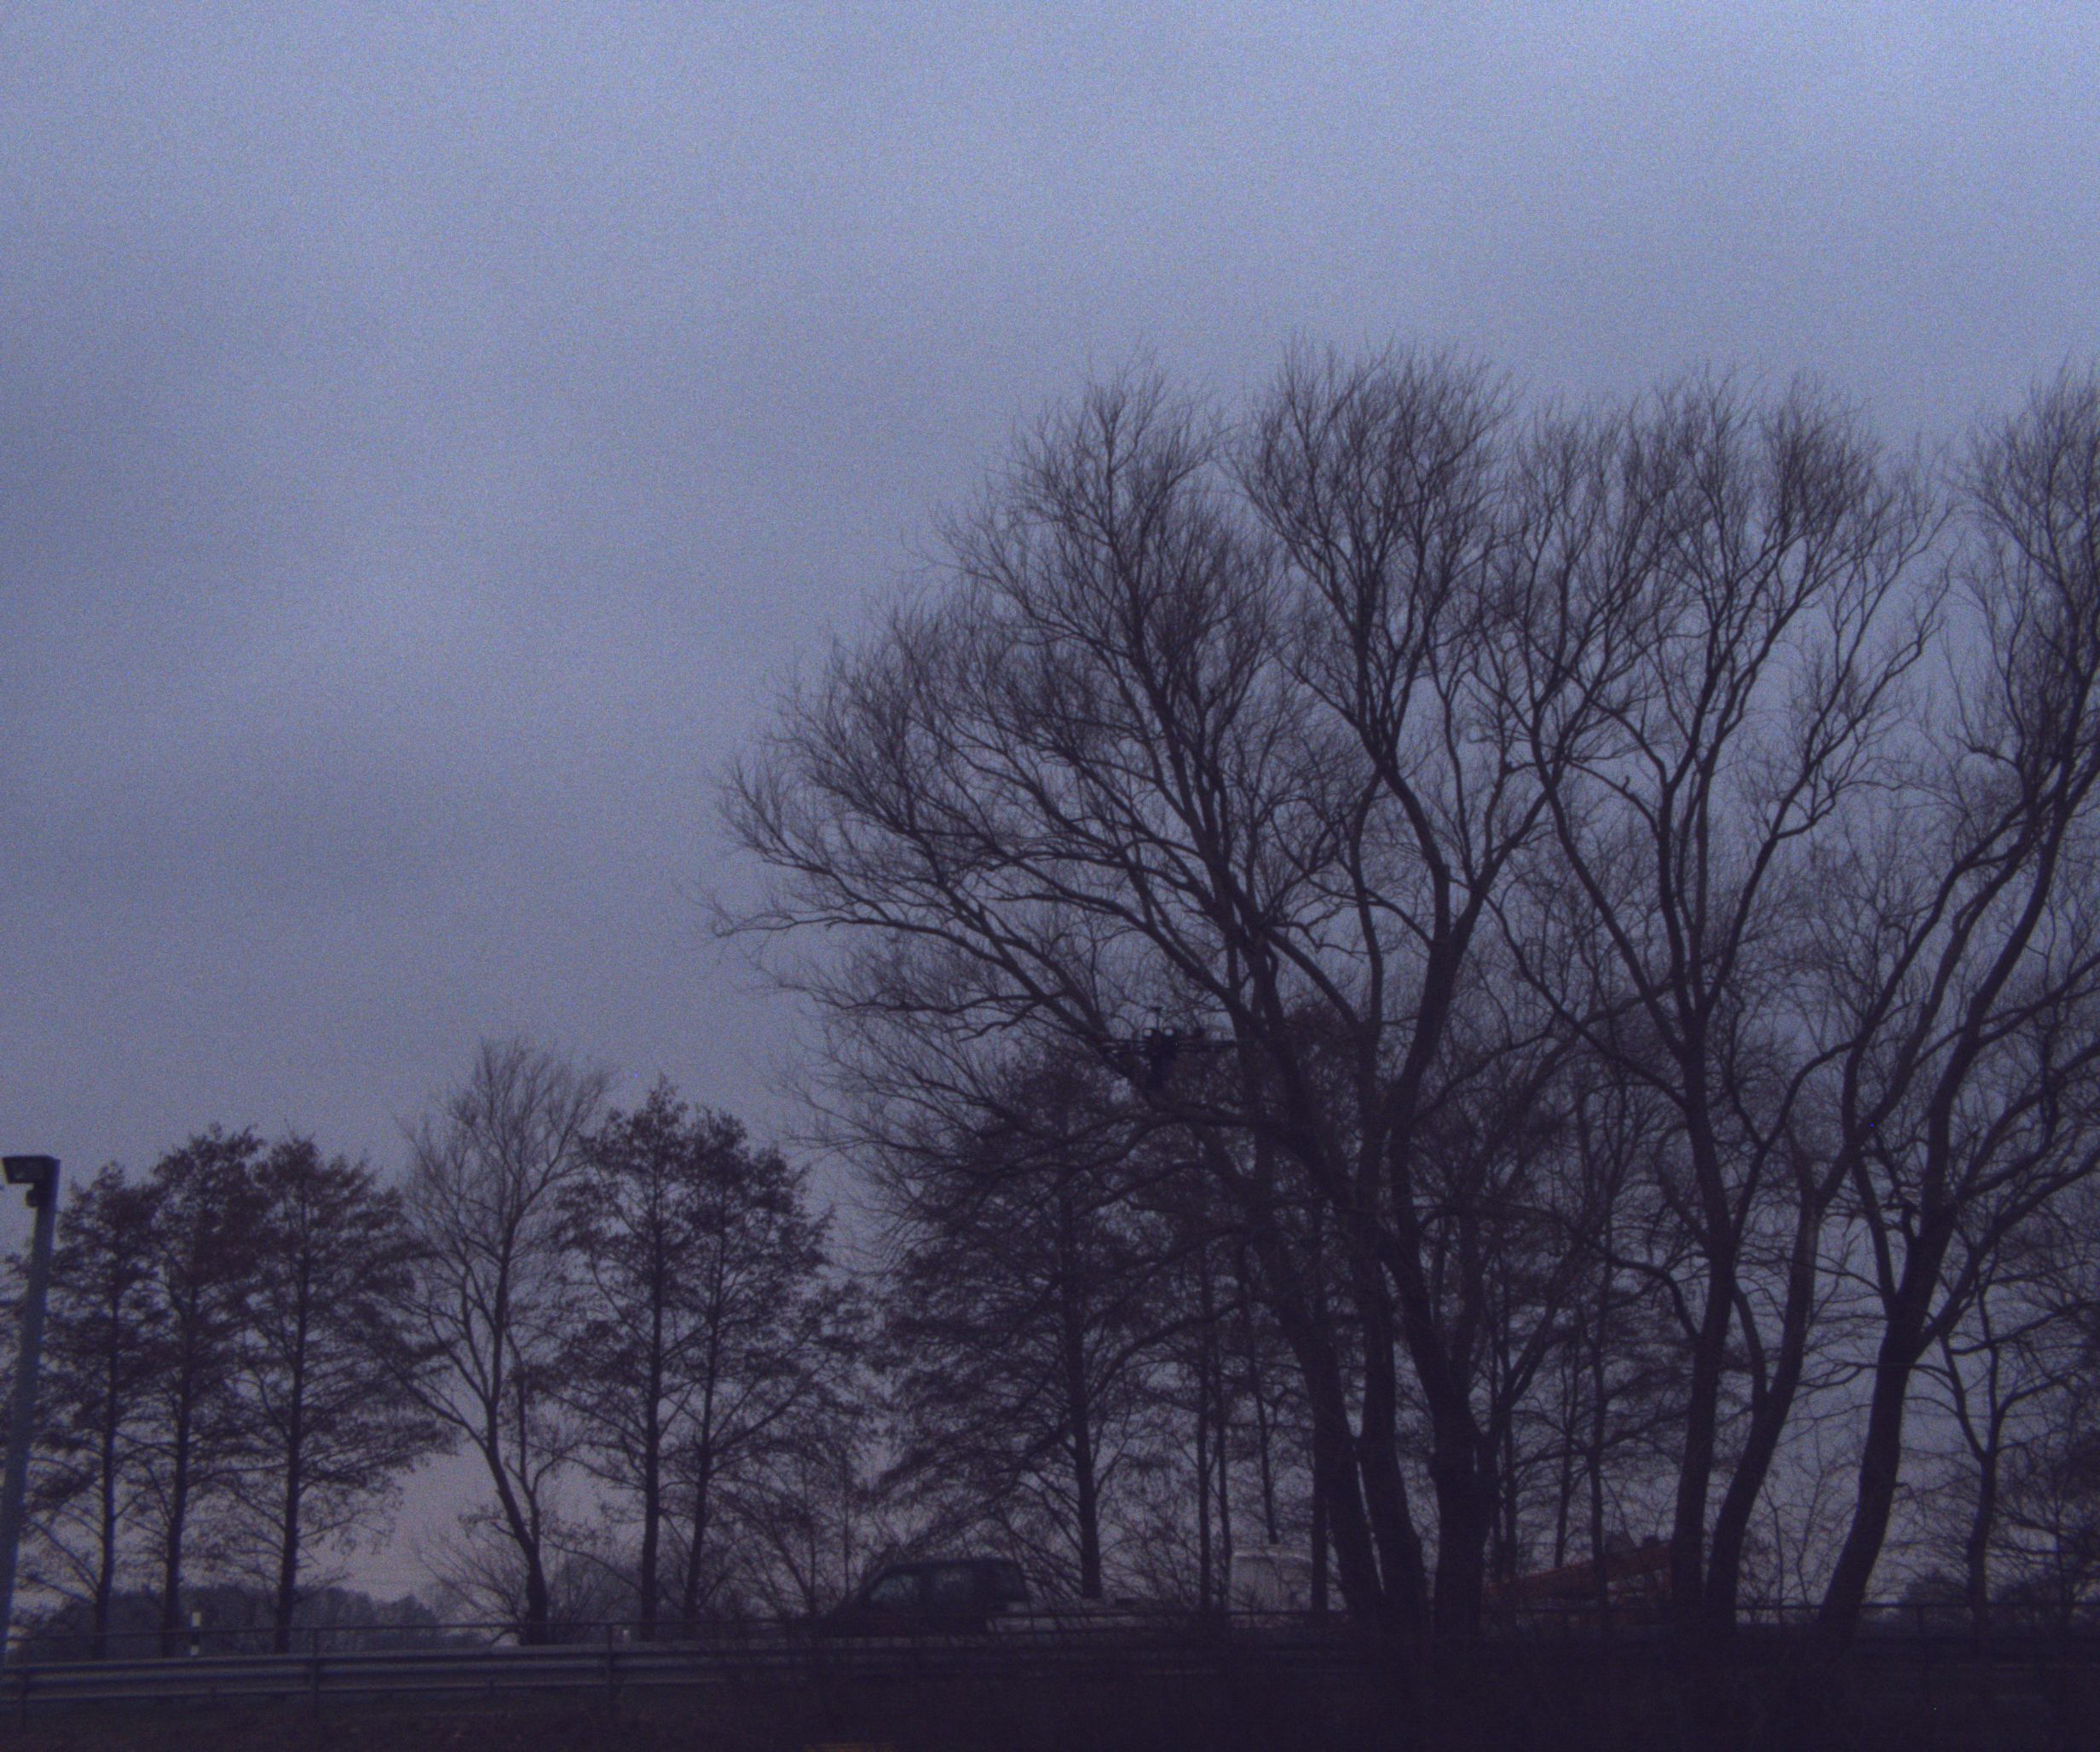Drohne: (1040, 990, 1338, 1117)
